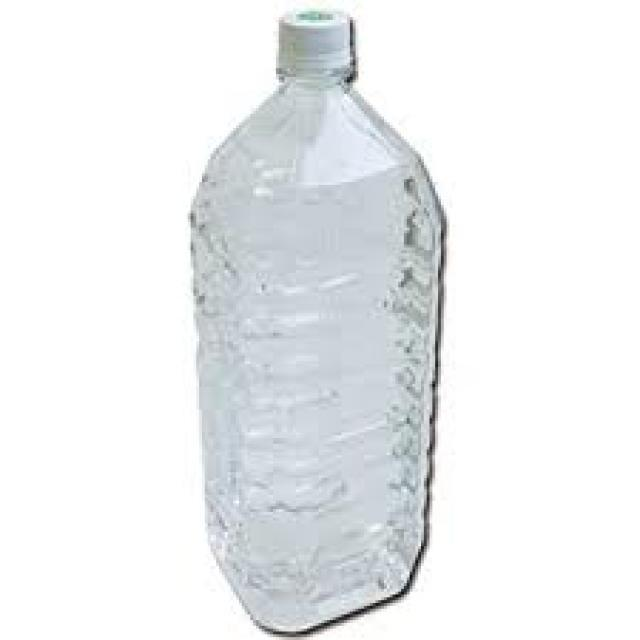Plastic: (188, 9, 450, 636)
